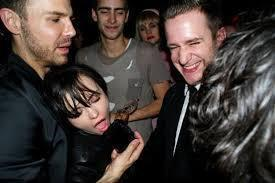Drunk: (161, 12, 215, 85), (28, 0, 76, 65), (63, 79, 109, 135), (95, 1, 126, 40)
